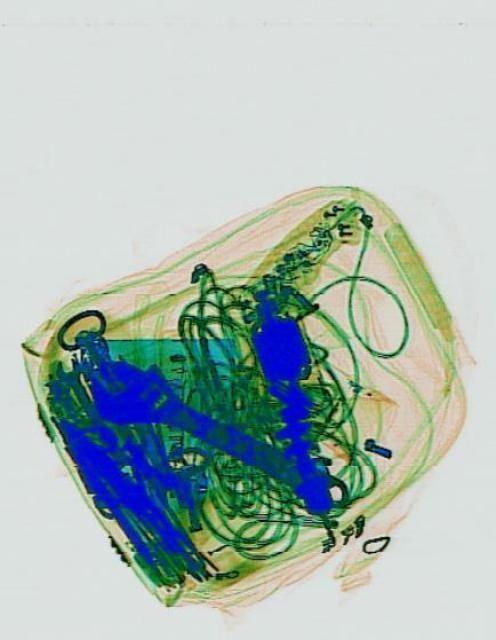Pliers: (46, 404, 183, 576)
Wrench: (79, 337, 358, 537)
